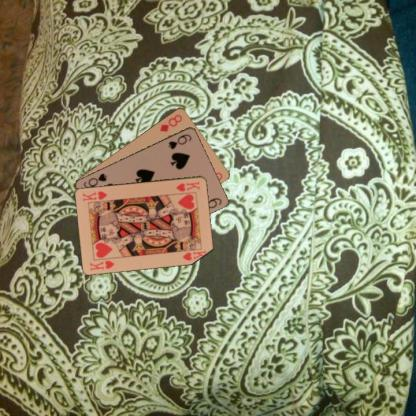6s: (166, 131, 193, 150)
8d: (157, 111, 183, 133)
Kh: (173, 178, 201, 192), (88, 258, 115, 272)
